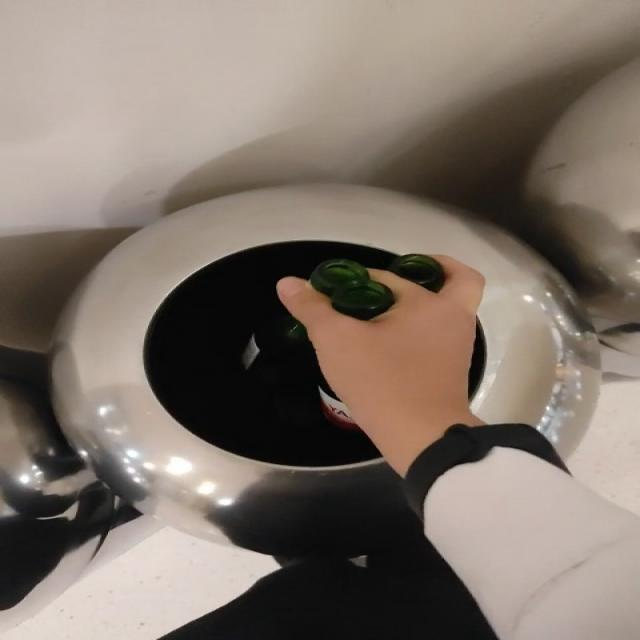glass: (240, 316, 359, 430), (311, 259, 395, 320), (387, 254, 445, 291)
